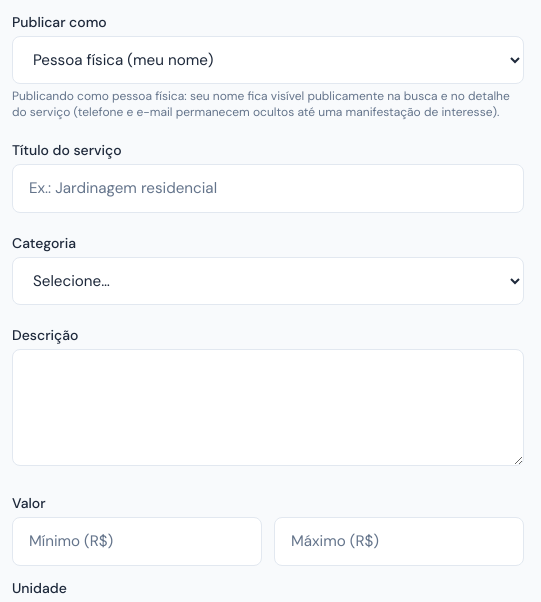
ServiceForm — sugerir nova categoria › selecionar "Outro / sugerir nova categoria" revela o input de texto livre
Expected: the field labelled "nome da nova categoria" is not shown
Select "Outro / sugerir nova categoria" in the dropdown labelled "Categoria" at (268, 281), box [12,257,524,305]
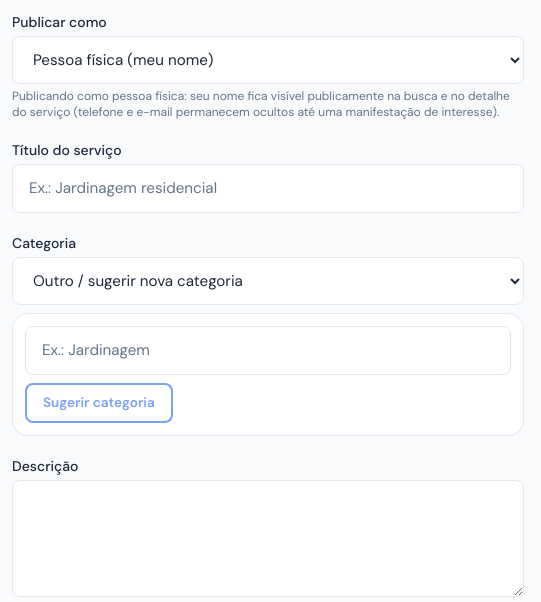
Now the field named "nome da nova categoria" is shown, box [25,326,511,375]
